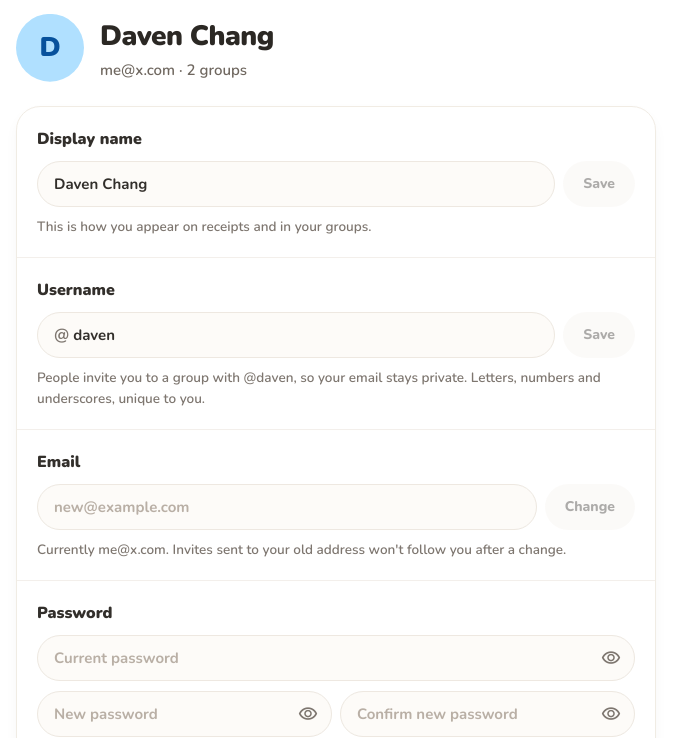
Account › saves a new display name
This screenshot has width=673, height=738.
Clear the field labelled "Display name" at (296, 184), box left=37, top=161, right=555, bottom=207
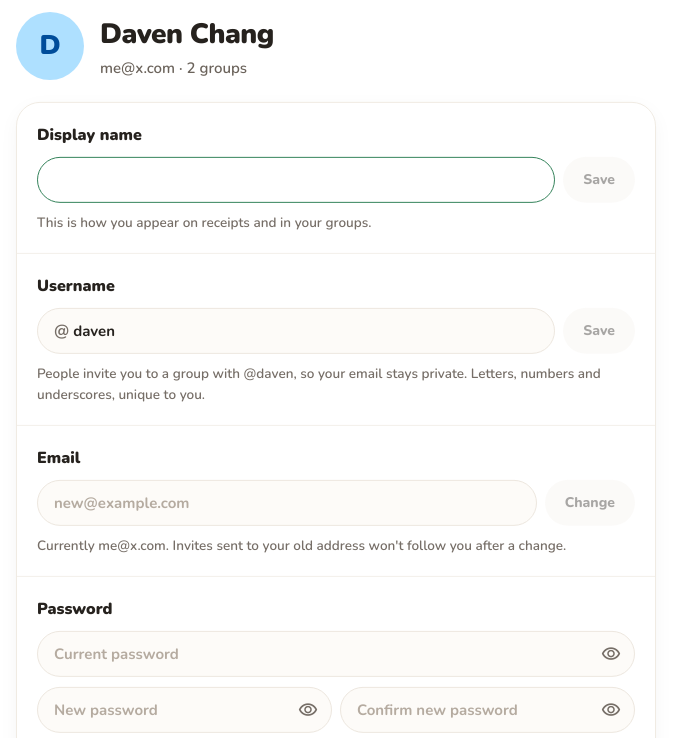
Type "Dave" into the field labelled "Display name".
click(296, 180); type("Dave")  # box left=37, top=157, right=555, bottom=203
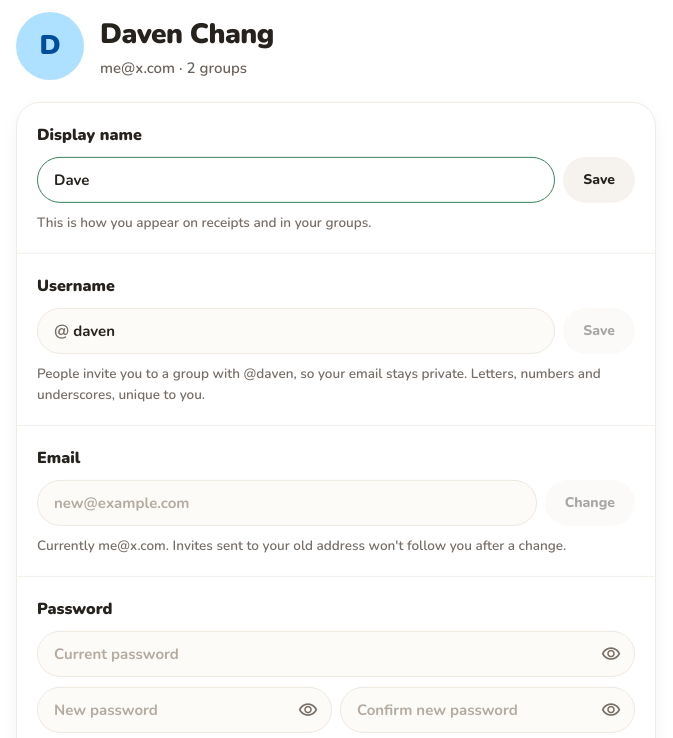
Click the 1st button "Save".
click(599, 180)  # box left=563, top=157, right=635, bottom=203
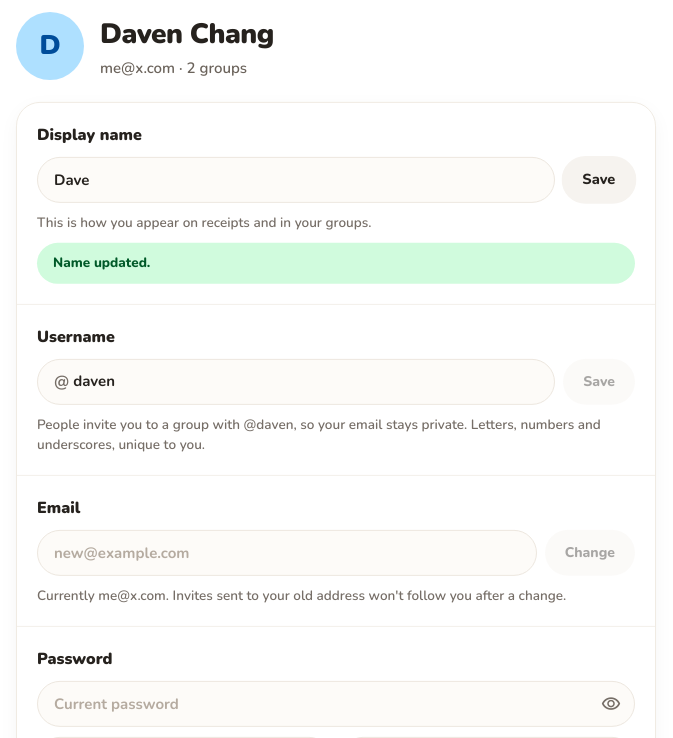
Expected: the text "Name updated." is shown, left=37, top=243, right=635, bottom=283
